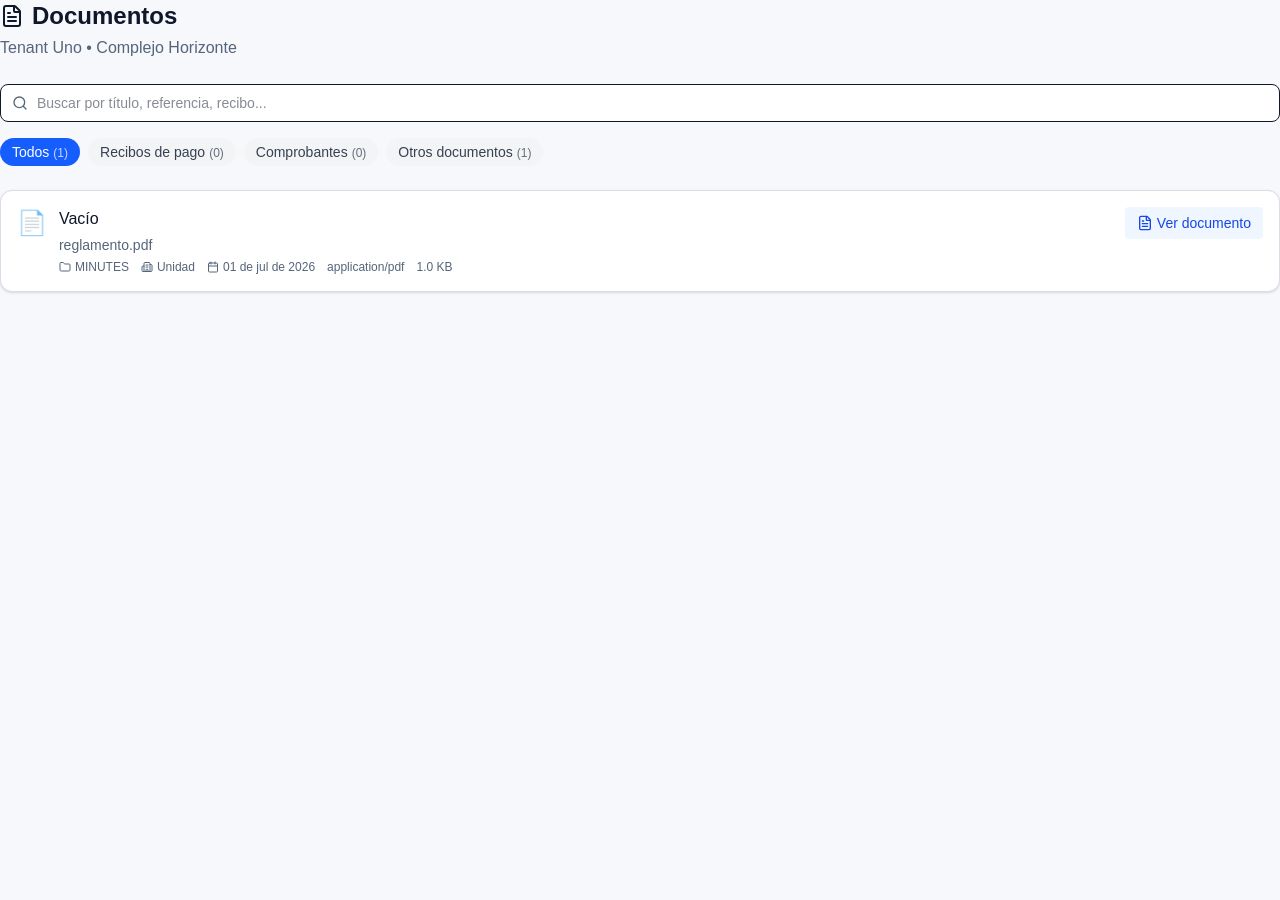
Test: ResidentDocumentsPage › Modal › shows error when downloaded blob is empty
Click the button with aria-label "ver documento vacío" at point(1194, 223), box left=1125, top=207, right=1263, bottom=239
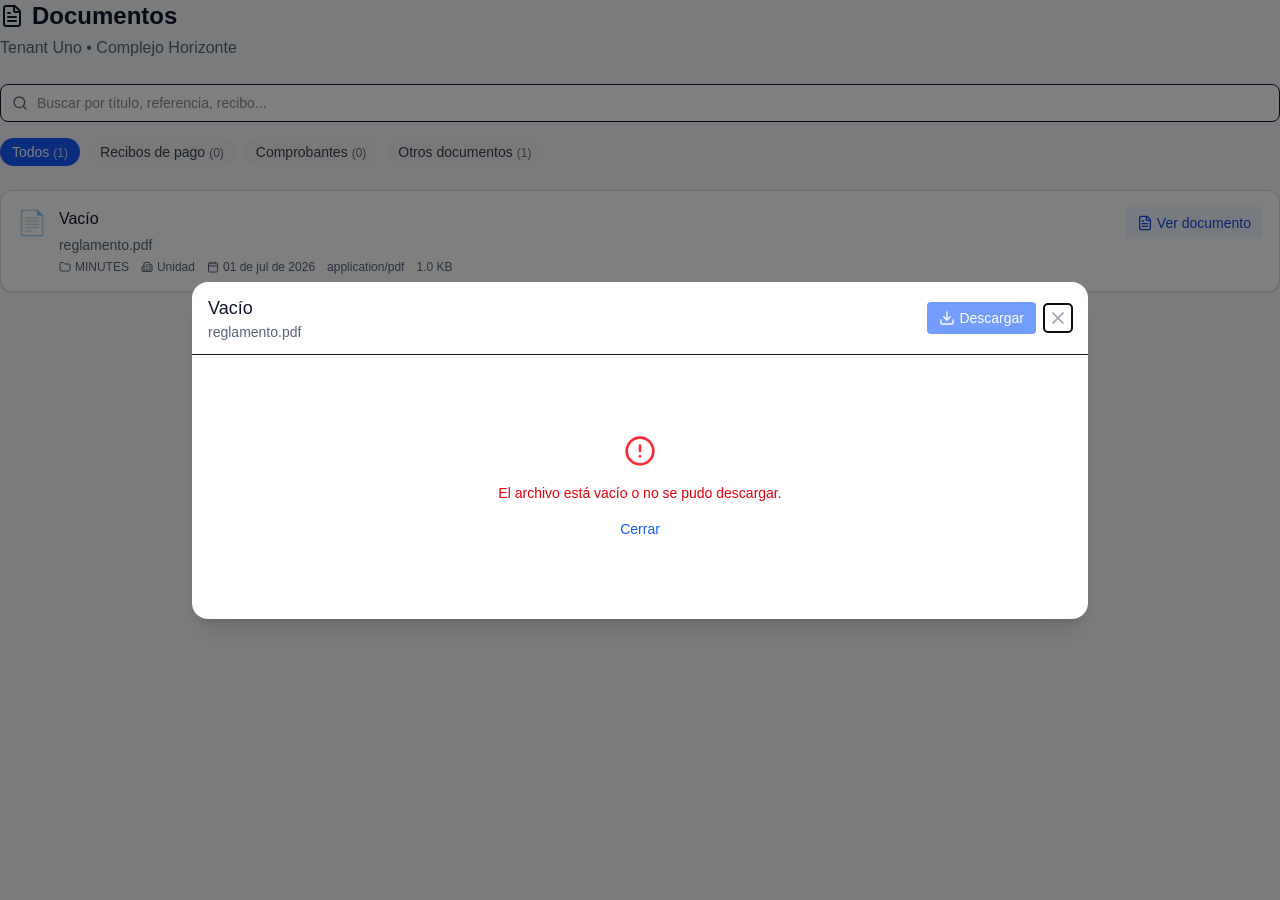
Result: the text "El archivo está vacío o no se pudo descargar." is shown at left=498, top=482, right=782, bottom=502
